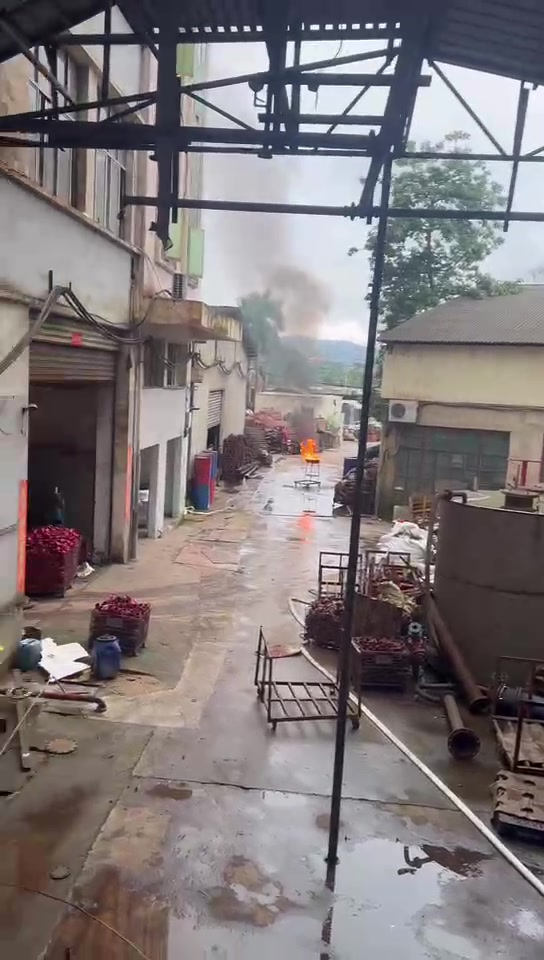fire: (299, 437, 318, 460)
